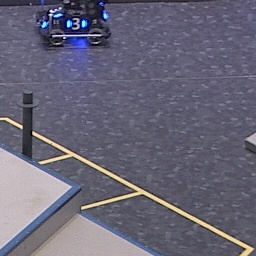Blue: (66, 16, 88, 30), (48, 4, 63, 17)
Robot: (36, 1, 112, 45)
